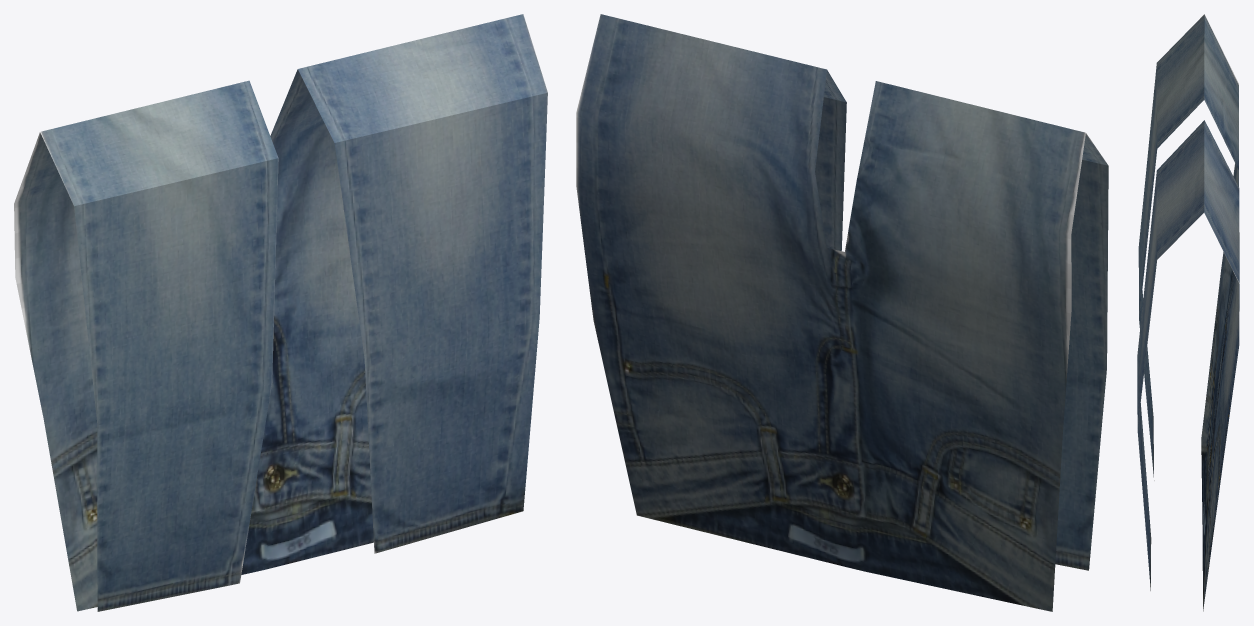
Rendered from Jeans_1.fbx.
3 views of the same model, side by side, from view 1: azimuth 30°, elevation 25°; view 2: azimuth 150°, elevation 25°; view 3: azimuth 270°, elevation 25° (orthographic). The views are drawn at different scales.
Visible parts, largest first — view 1: Plane.005; view 2: Plane.005; view 3: Plane.005.
Part boxes in pixels (left/top/right/bottom): Plane.005: left=14, top=14, right=547, bottom=611; Plane.005: left=576, top=14, right=1108, bottom=611; Plane.005: left=1137, top=14, right=1239, bottom=611.
Size of the model in its own units: 145 by 139 by 31.08.
